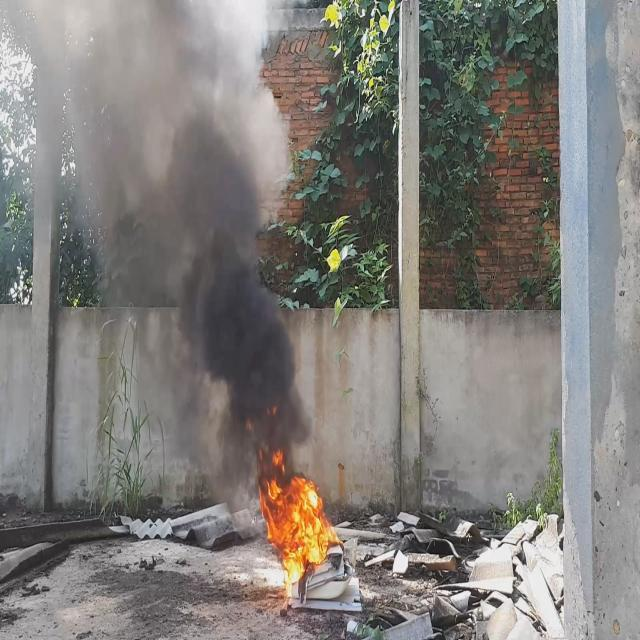Fire: (256, 444, 344, 596)
Smoke: (0, 0, 315, 506)
